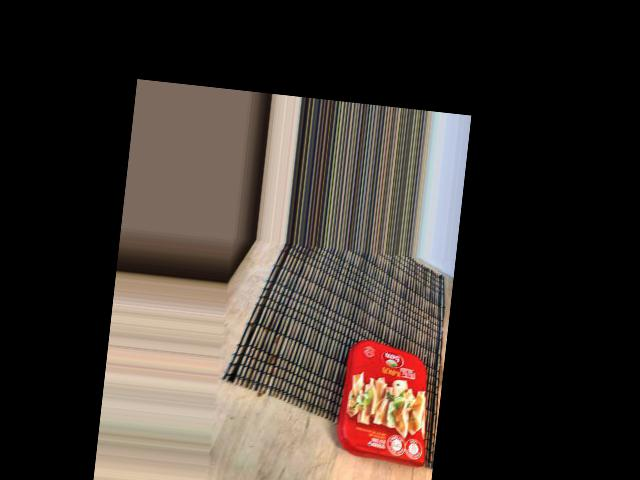cheese: (217, 367, 349, 473)
